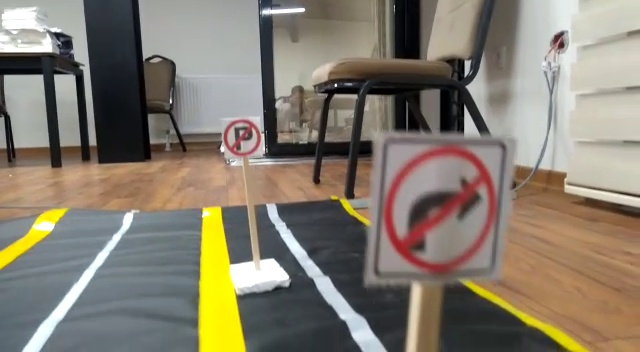park_yapilmaz: (221, 118, 264, 159)
saga_donulmez: (369, 139, 500, 274)
